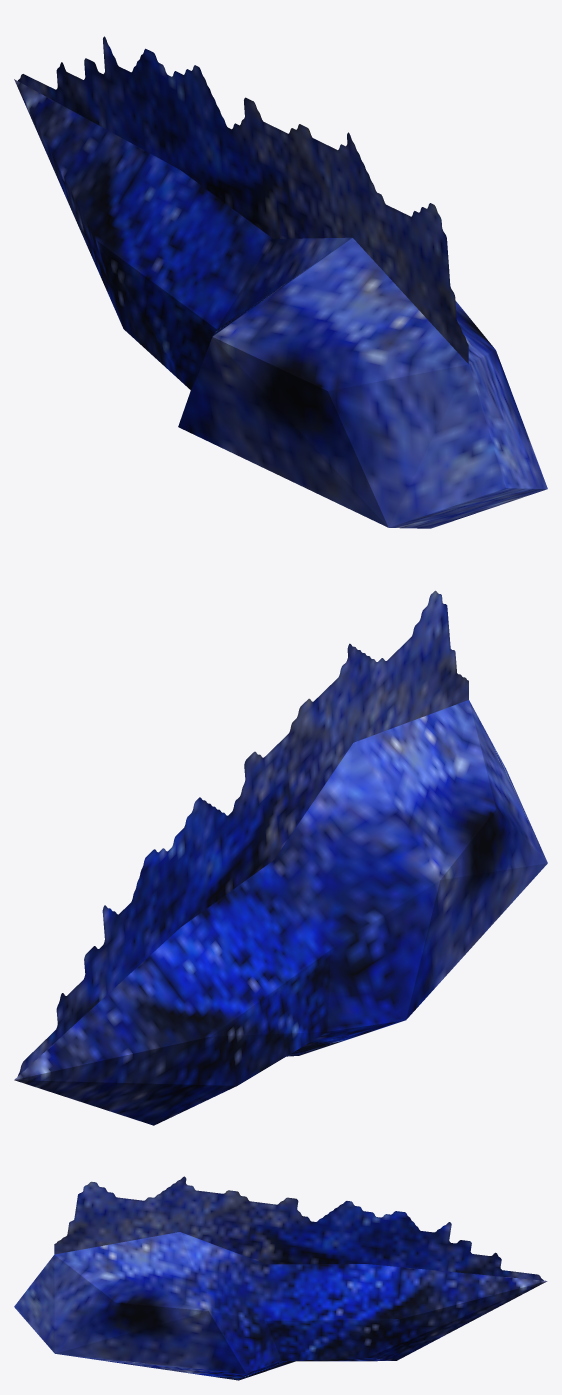
File: silex.obj
The picture shows the model from 3 angles, top to bottom: view 1: azimuth 30°, elevation 25°; view 2: azimuth 150°, elevation 25°; view 3: azimuth 270°, elevation 25°; orthographic projection. The views are drawn at different scales.
Parts seen in each view (by area): view 1: Body; view 2: Body; view 3: Body.
Part boxes in pixels (bbox=[...]): Body: bbox=[14, 36, 547, 528]; Body: bbox=[14, 590, 547, 1125]; Body: bbox=[14, 1176, 547, 1380].
Size of the model in its own units: 0.3462 by 0.6072 by 1.3.
